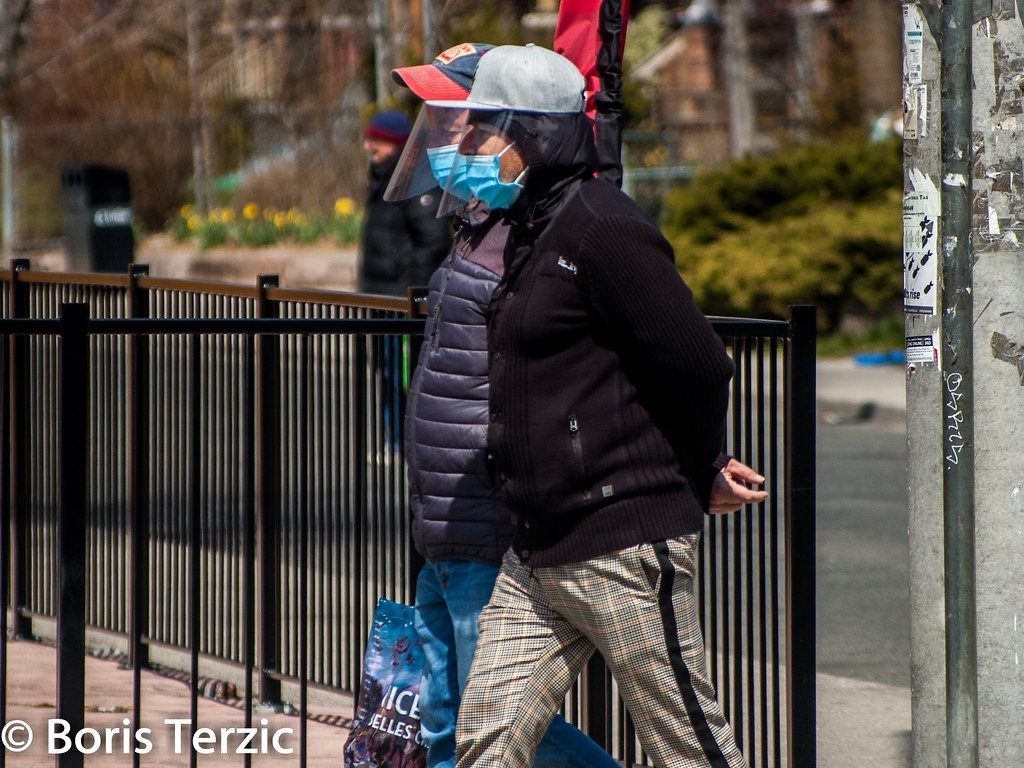face_with_mask: (452, 109, 585, 209), (416, 82, 467, 217)
